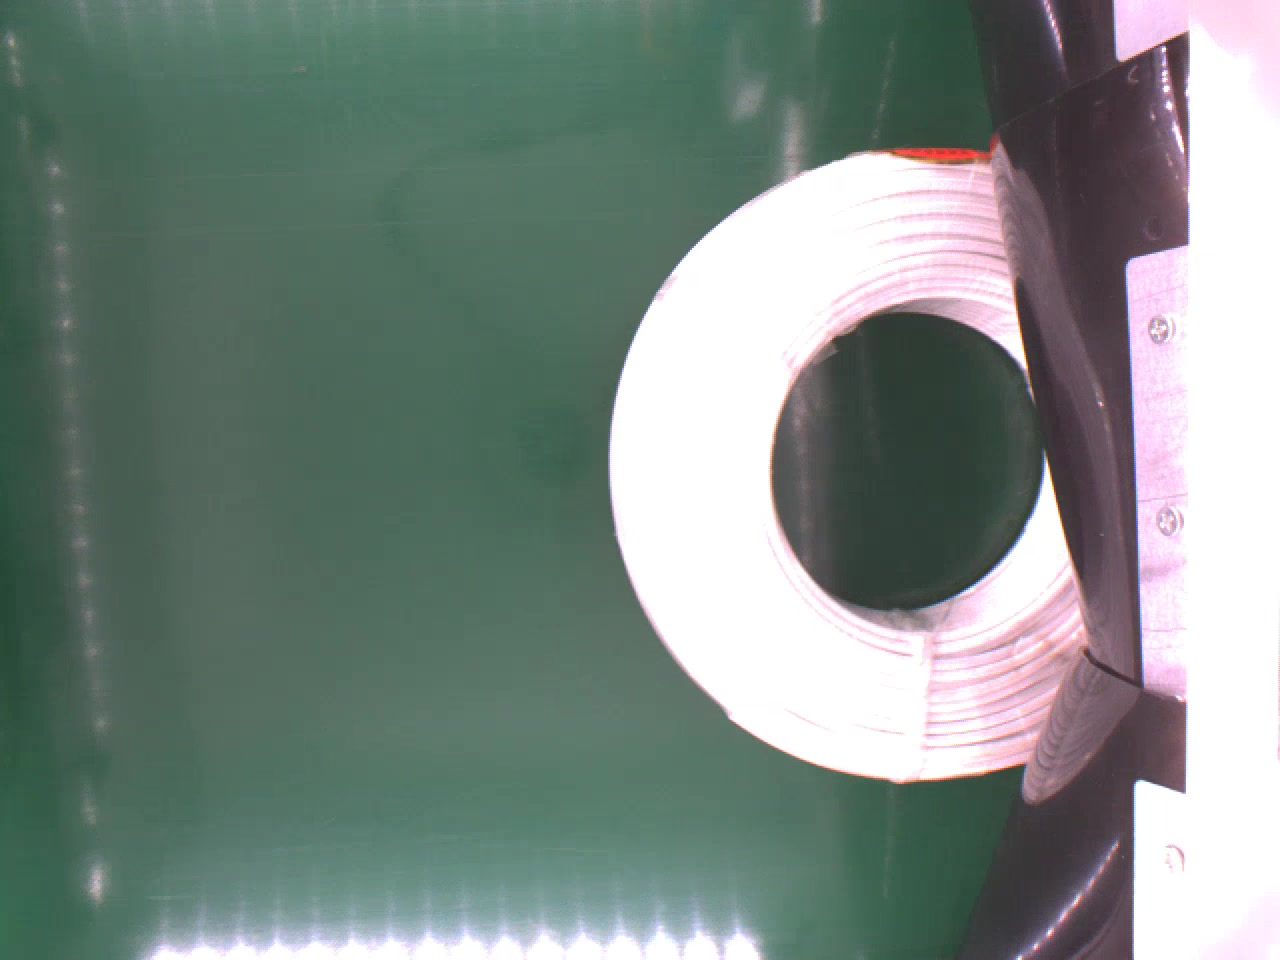white: (607, 148, 1087, 785)
